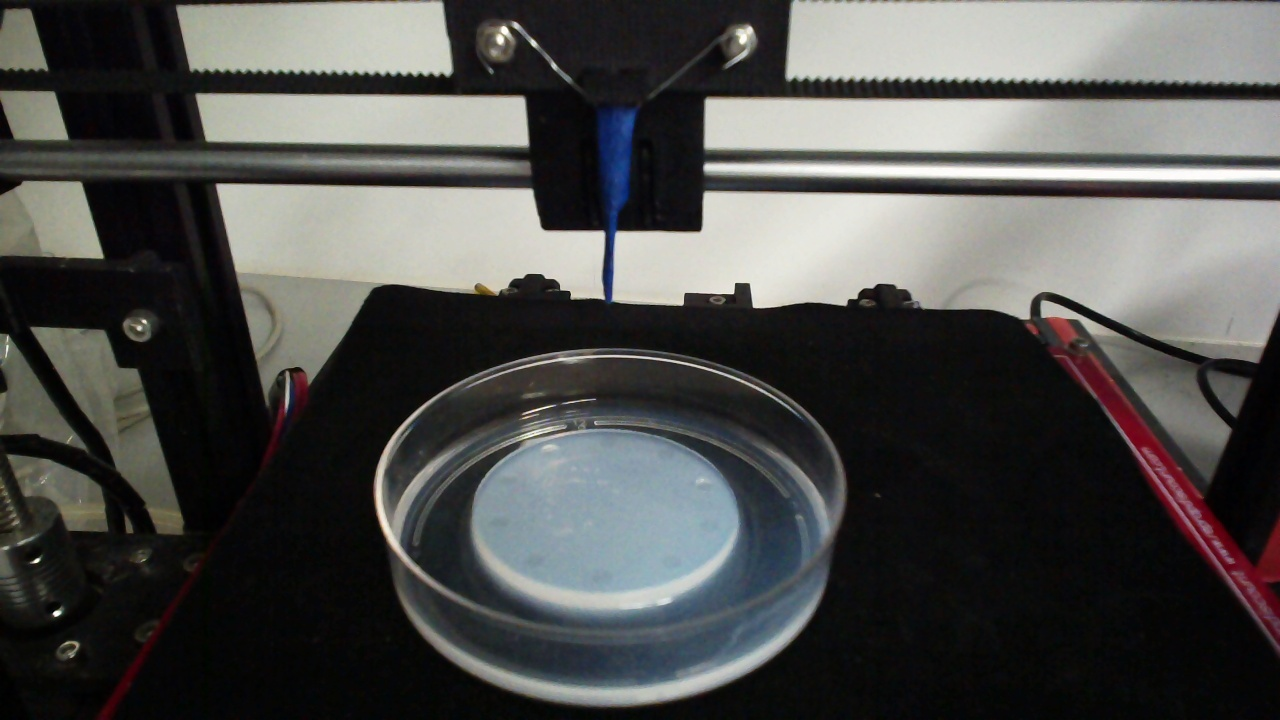groove: (521, 552, 546, 571), (696, 516, 722, 534), (588, 568, 612, 586), (658, 554, 683, 571), (654, 445, 677, 463), (489, 512, 513, 529), (538, 442, 561, 459), (496, 471, 518, 487), (693, 477, 716, 492), (595, 435, 618, 450)
needle: (602, 108, 636, 305)
